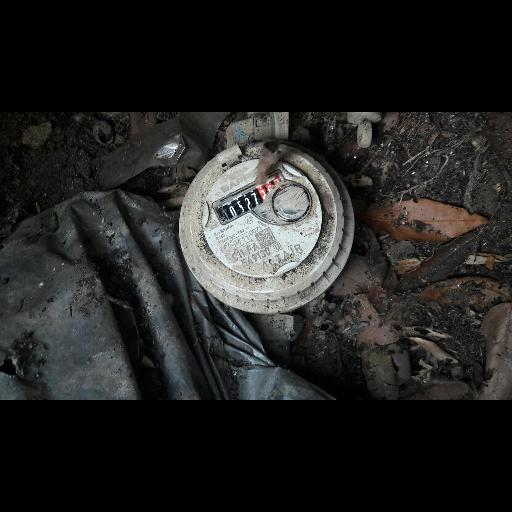0: (218, 206, 233, 225), (225, 201, 239, 219)
2: (241, 193, 256, 211), (257, 184, 271, 202)
5: (233, 197, 247, 215)
6: (264, 181, 279, 198)
7: (249, 190, 264, 209), (272, 174, 285, 190)
border_water_meter_number: (210, 168, 291, 227)
